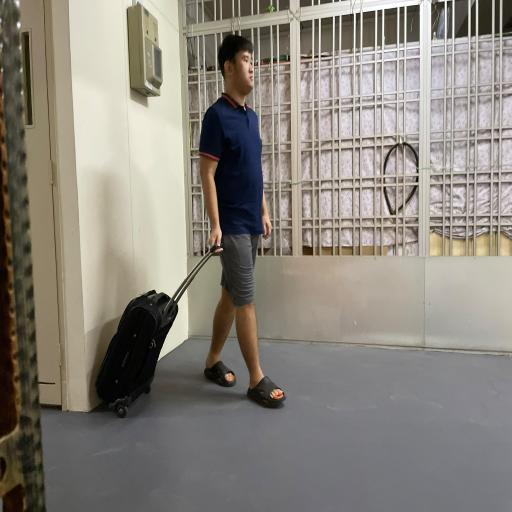person_right: (86, 33, 284, 435)
